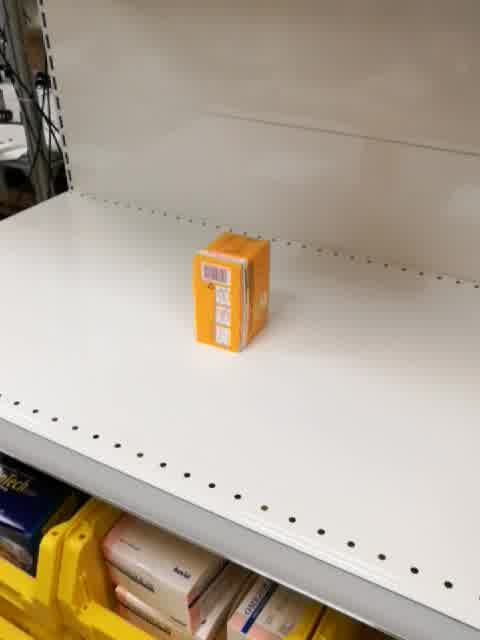jasminetea: (193, 231, 272, 354)
